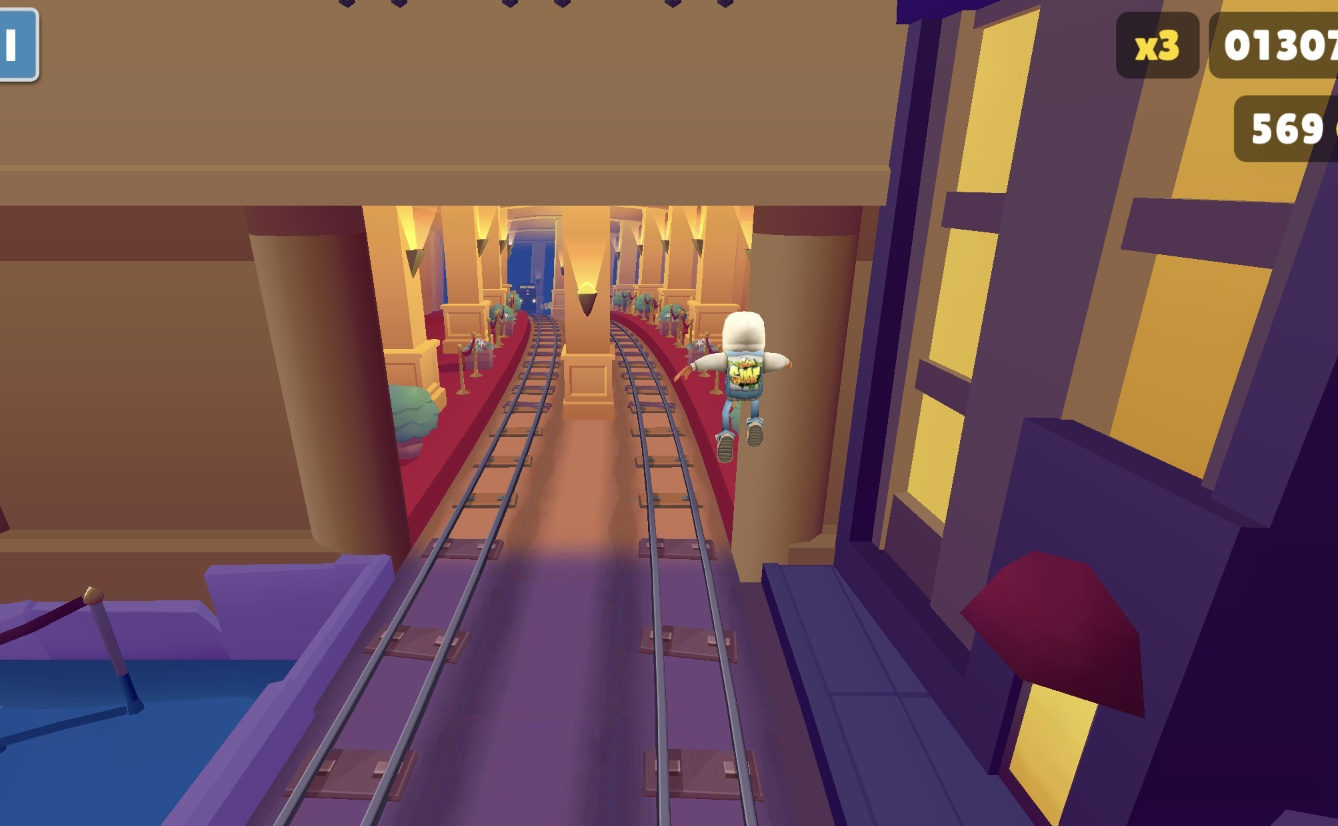pillar: (557, 205, 617, 417)
